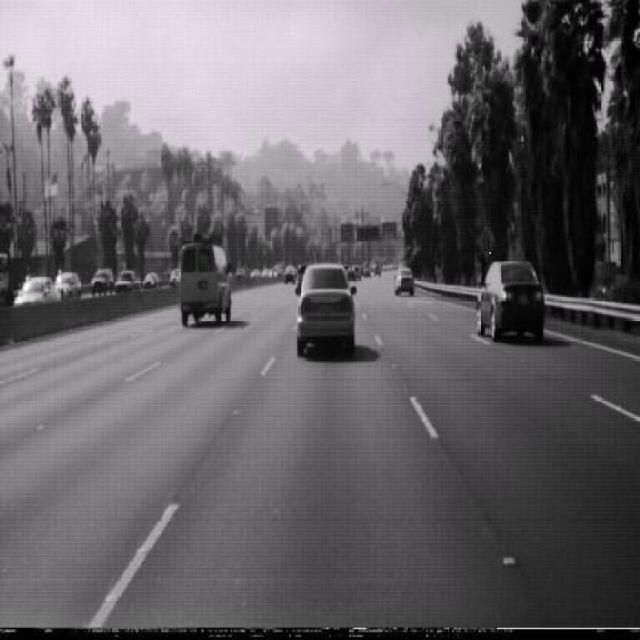laneEnds: (477, 220, 496, 261)
